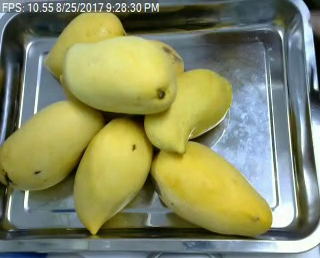Mango: (148, 138, 274, 239), (71, 114, 154, 235), (0, 98, 106, 191), (62, 35, 178, 114), (144, 66, 232, 153), (42, 8, 128, 85)
